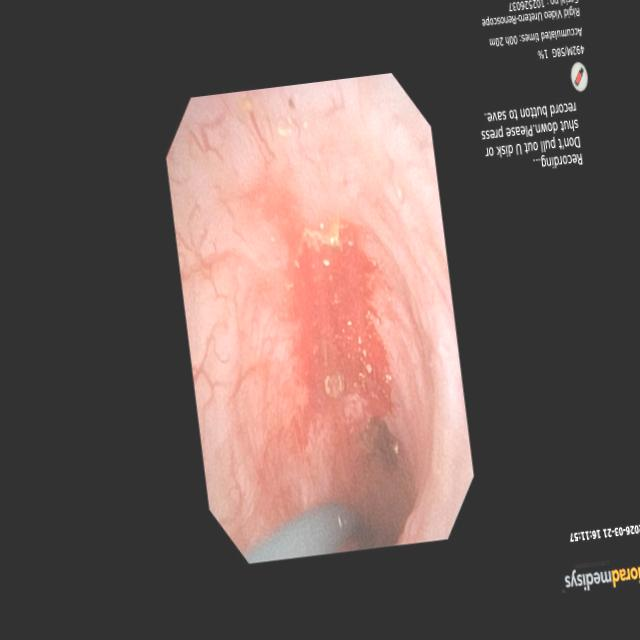stone-new: (369, 419, 399, 464)
